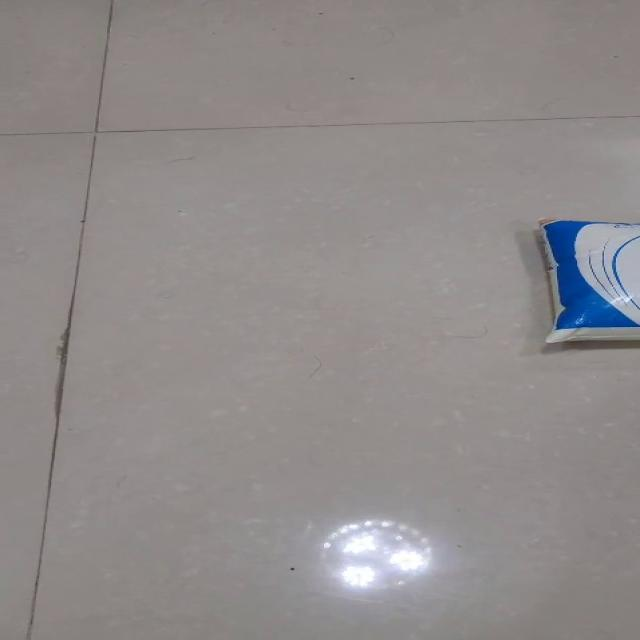plastic: (536, 216, 638, 343)
